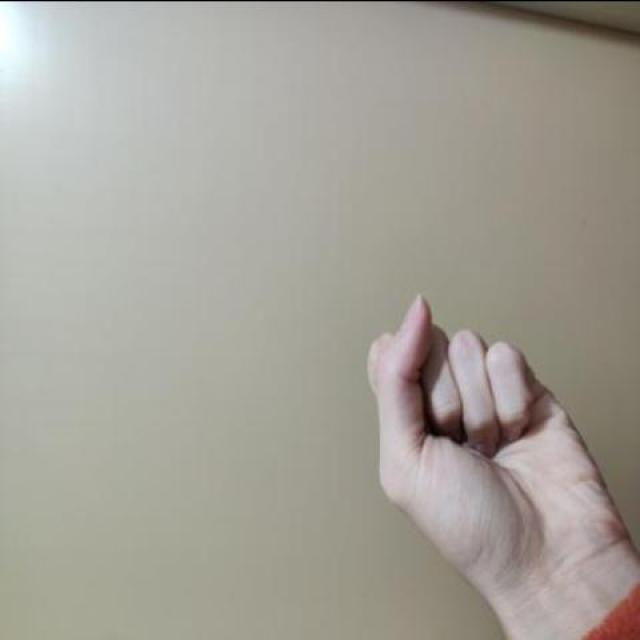fist: (360, 287, 611, 593)
